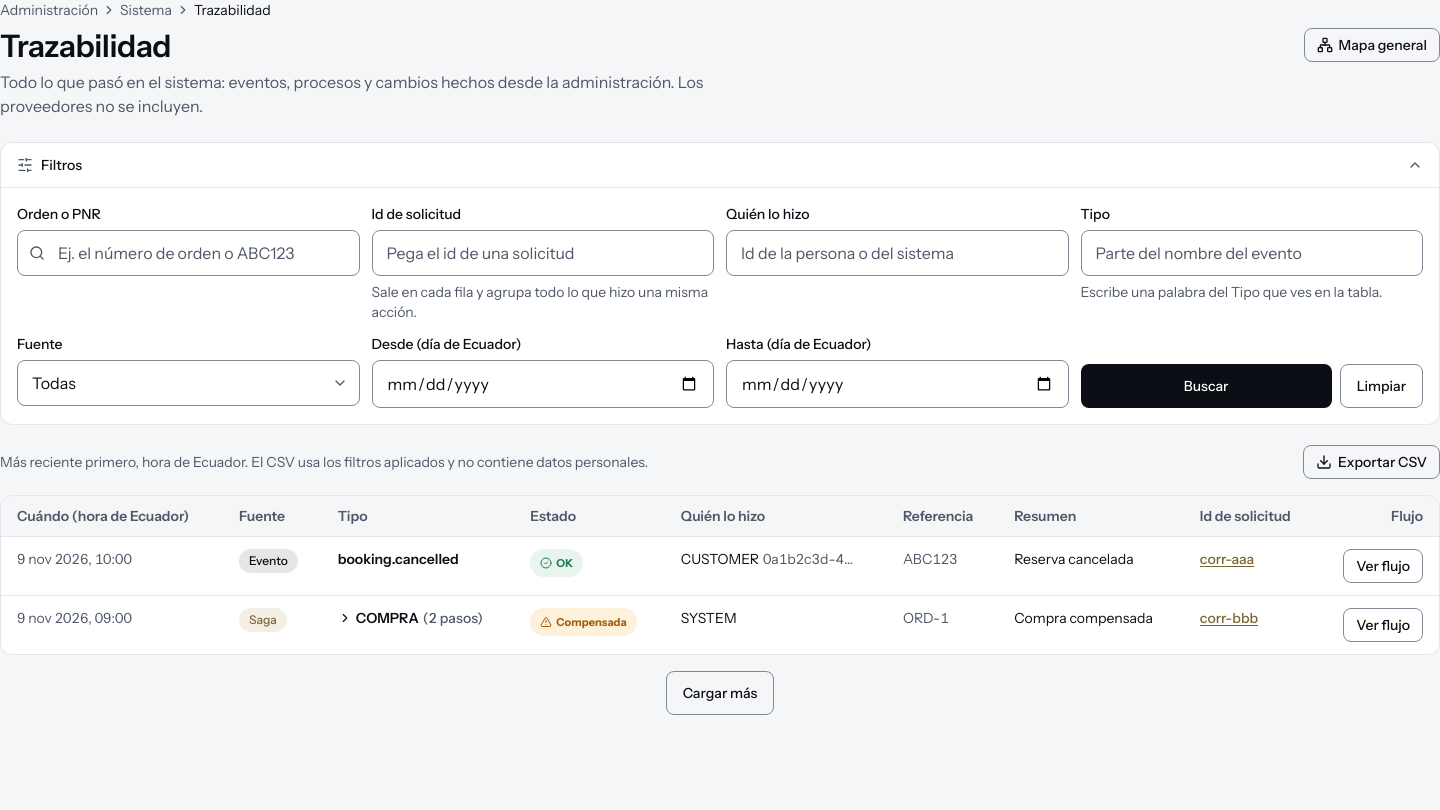
Scenario: AdminAuditPage (trazabilidad) › polls the flow only while the panel is open and closes with Escape
Click the button "Ver flujo" in the row of "9 nov 2026, 10:00" at (1383, 566), box [1343,549,1423,583]
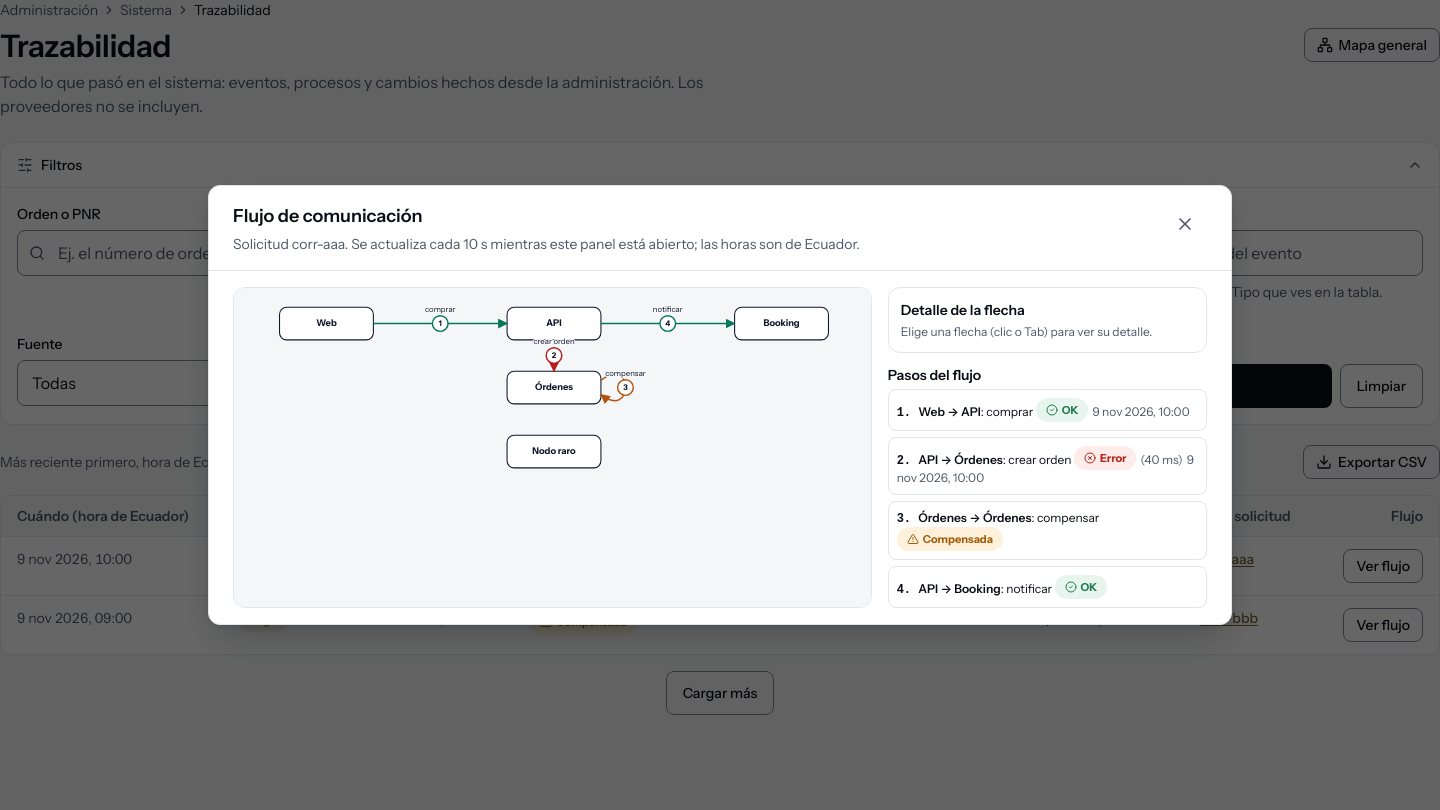
Press Escape
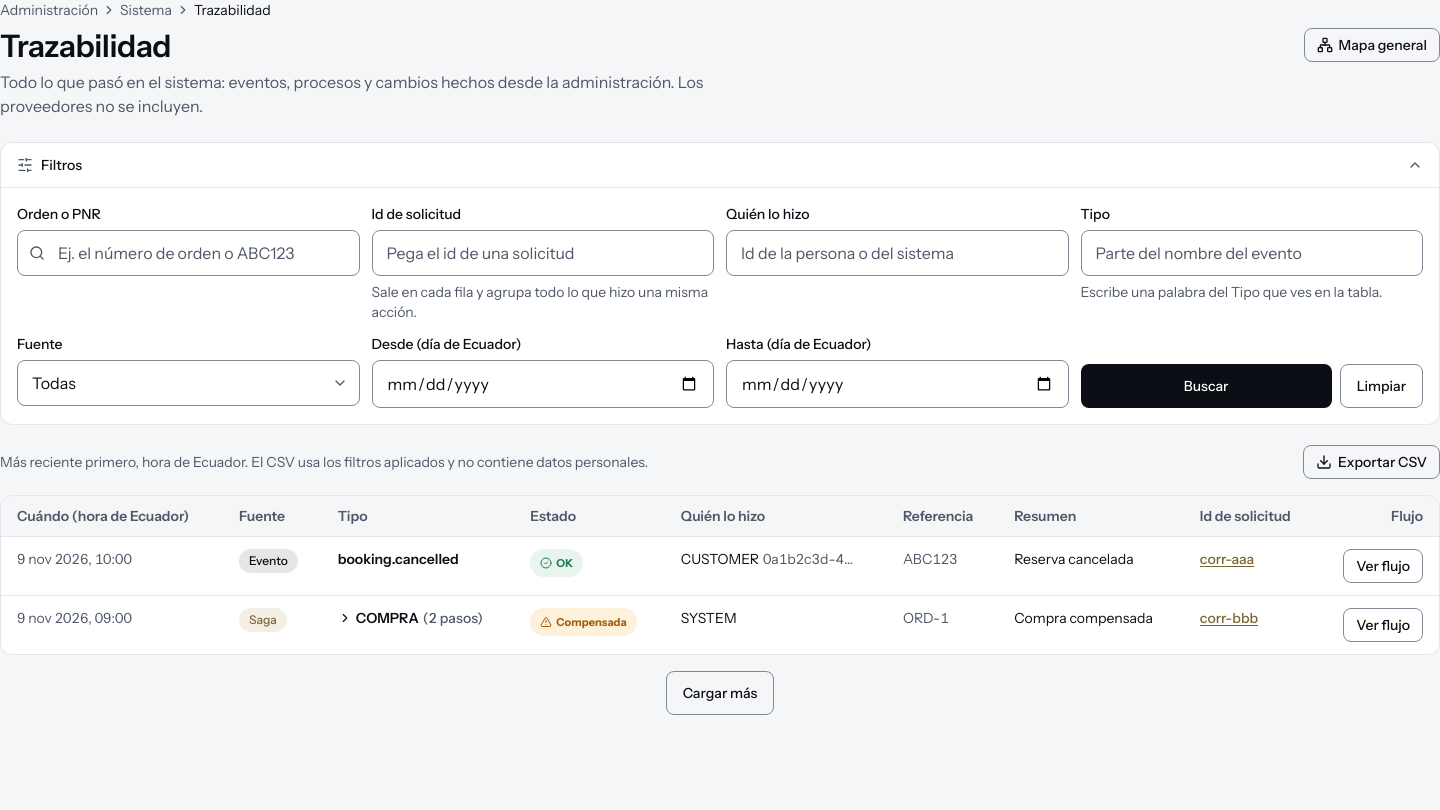
Expected: the dialog is gone
